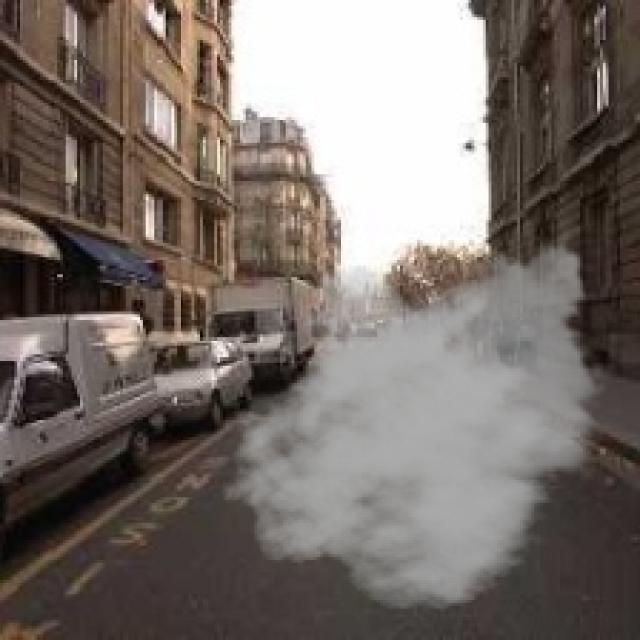Smoke: (220, 226, 609, 612)
